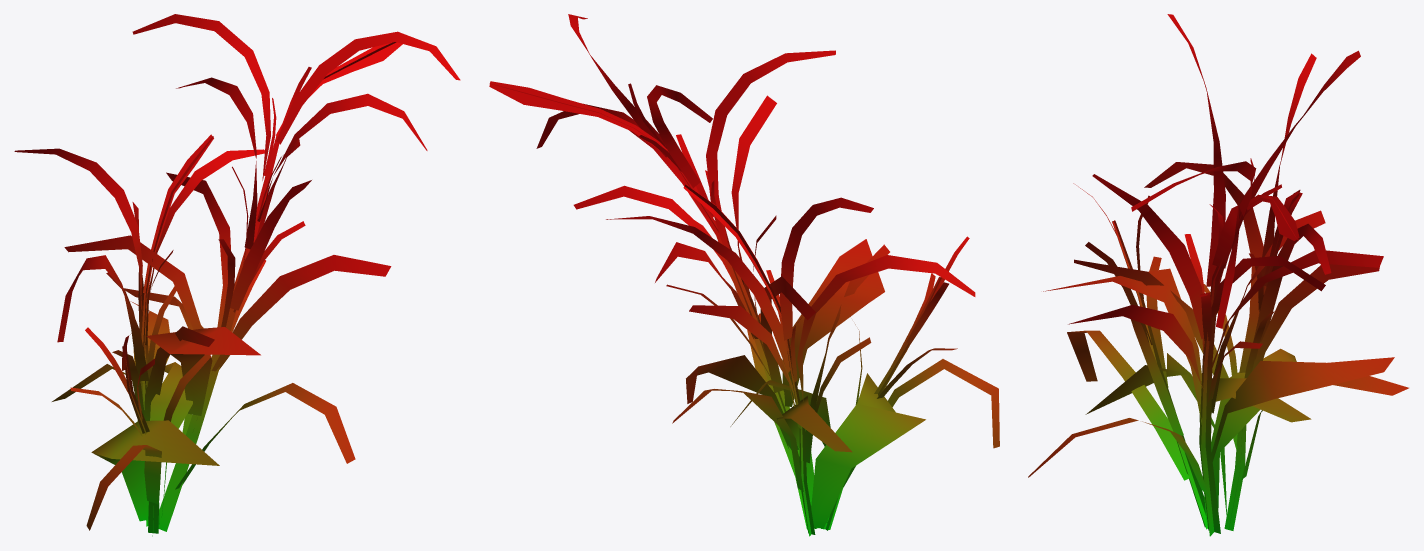
The model's file is Great Brome_LOD3_Var2_tjugaikia.fbx.
The picture shows the model from 3 angles, left to right: view 1: azimuth 30°, elevation 25°; view 2: azimuth 150°, elevation 25°; view 3: azimuth 270°, elevation 25°; orthographic projection. The views are drawn at different scales.
Visible parts, largest first — view 1: _c0c9_Var2_LOD3; view 2: _c0c9_Var2_LOD3; view 3: _c0c9_Var2_LOD3.
Boxes of the visible parts, x1,y1,x2,y2 form: _c0c9_Var2_LOD3: [14, 14, 460, 536]; _c0c9_Var2_LOD3: [489, 14, 999, 536]; _c0c9_Var2_LOD3: [1028, 14, 1408, 536].
Size of the model in its own units: 58.97 by 62.4 by 41.49.
